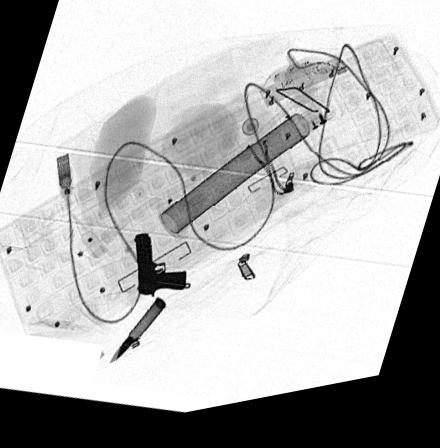Bullet: (109, 302, 165, 368)
Gun: (134, 238, 186, 302)
